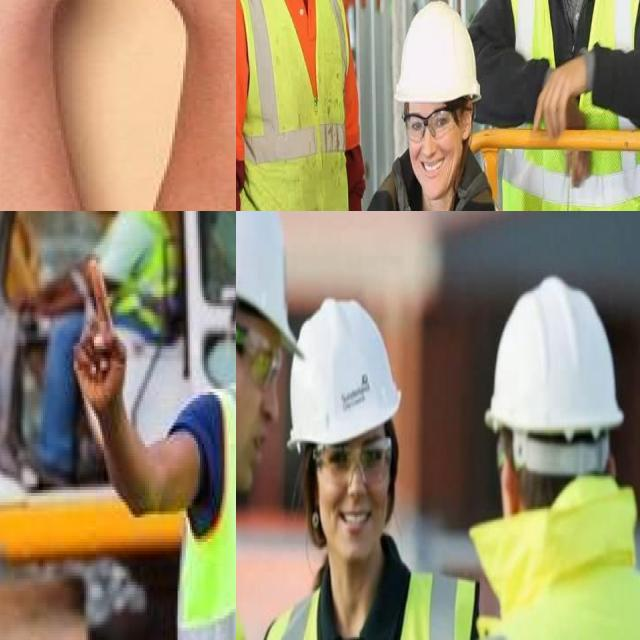No_Ear-Protection: (460, 99, 474, 146)
face_nomask: (310, 435, 402, 561), (236, 286, 284, 499), (401, 100, 470, 190)
glasses: (309, 432, 396, 488), (236, 319, 288, 398), (401, 97, 458, 143)
hand_noglove: (72, 257, 136, 410), (532, 48, 592, 148)
head_helmet: (466, 243, 640, 458), (280, 296, 403, 447), (389, 0, 483, 104), (236, 211, 292, 346)
person: (446, 228, 640, 640), (264, 278, 436, 640), (32, 211, 179, 459), (481, 0, 640, 211), (356, 0, 514, 211), (236, 0, 356, 211), (181, 229, 236, 640)
vest: (501, 0, 640, 211), (236, 0, 350, 211), (474, 512, 640, 640), (257, 548, 469, 640), (183, 396, 236, 640), (112, 211, 175, 309)
